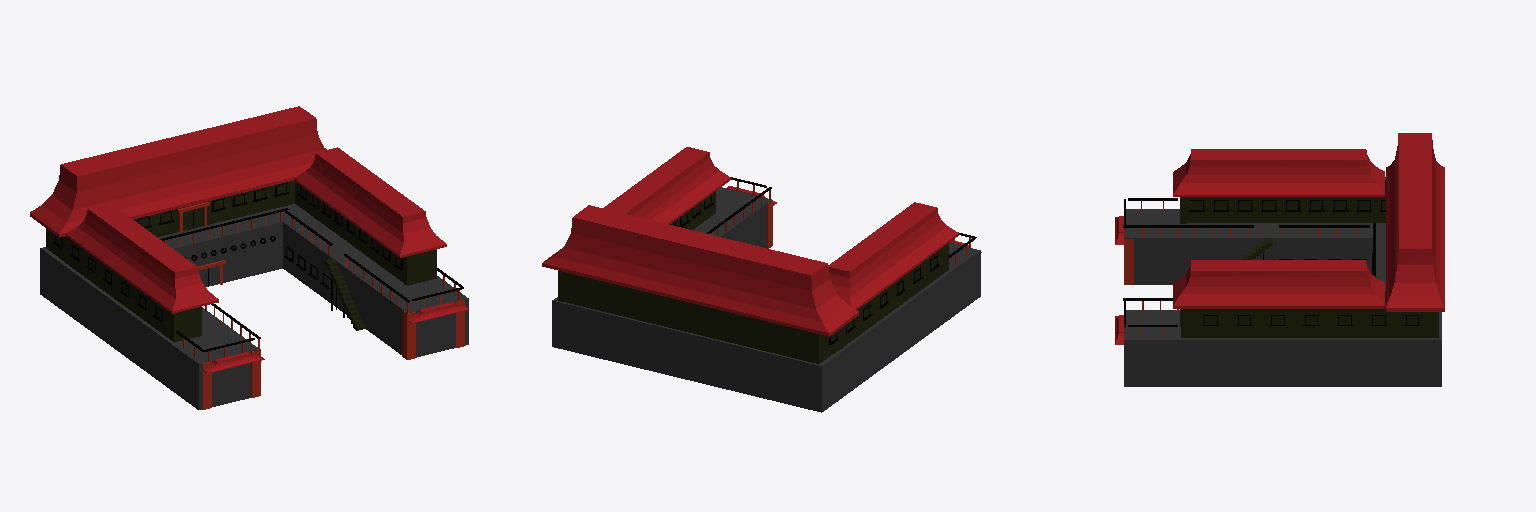
File: House_H.obj
3 renders of one model, left to right at view 1: azimuth 30°, elevation 25°; view 2: azimuth 150°, elevation 25°; view 3: azimuth 270°, elevation 25°, orthographic.
Visible parts, largest first — view 1: House_H; view 2: House_H; view 3: House_H.
Boxes of the visible parts, x1=… form: House_H: x1=30, y1=106, x2=468, y2=409; House_H: x1=542, y1=147, x2=981, y2=412; House_H: x1=1115, y1=133, x2=1444, y2=386.
Size of the model in its own units: 42.5 by 18.38 by 42.17.